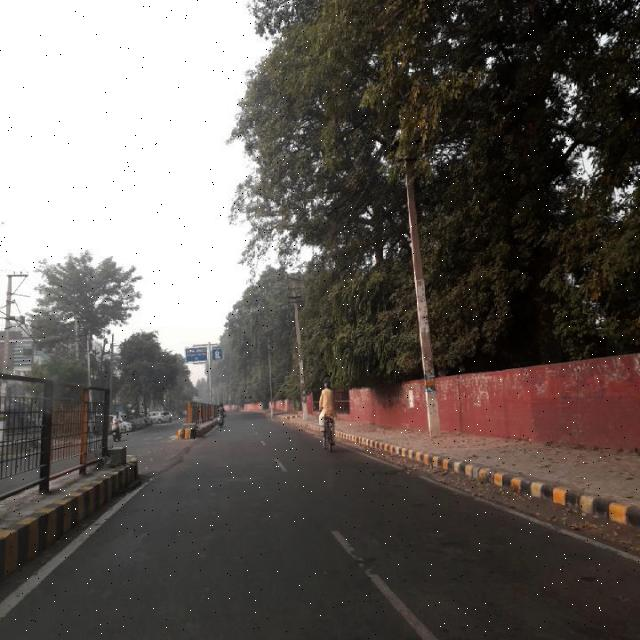D44: (329, 522, 430, 634)
